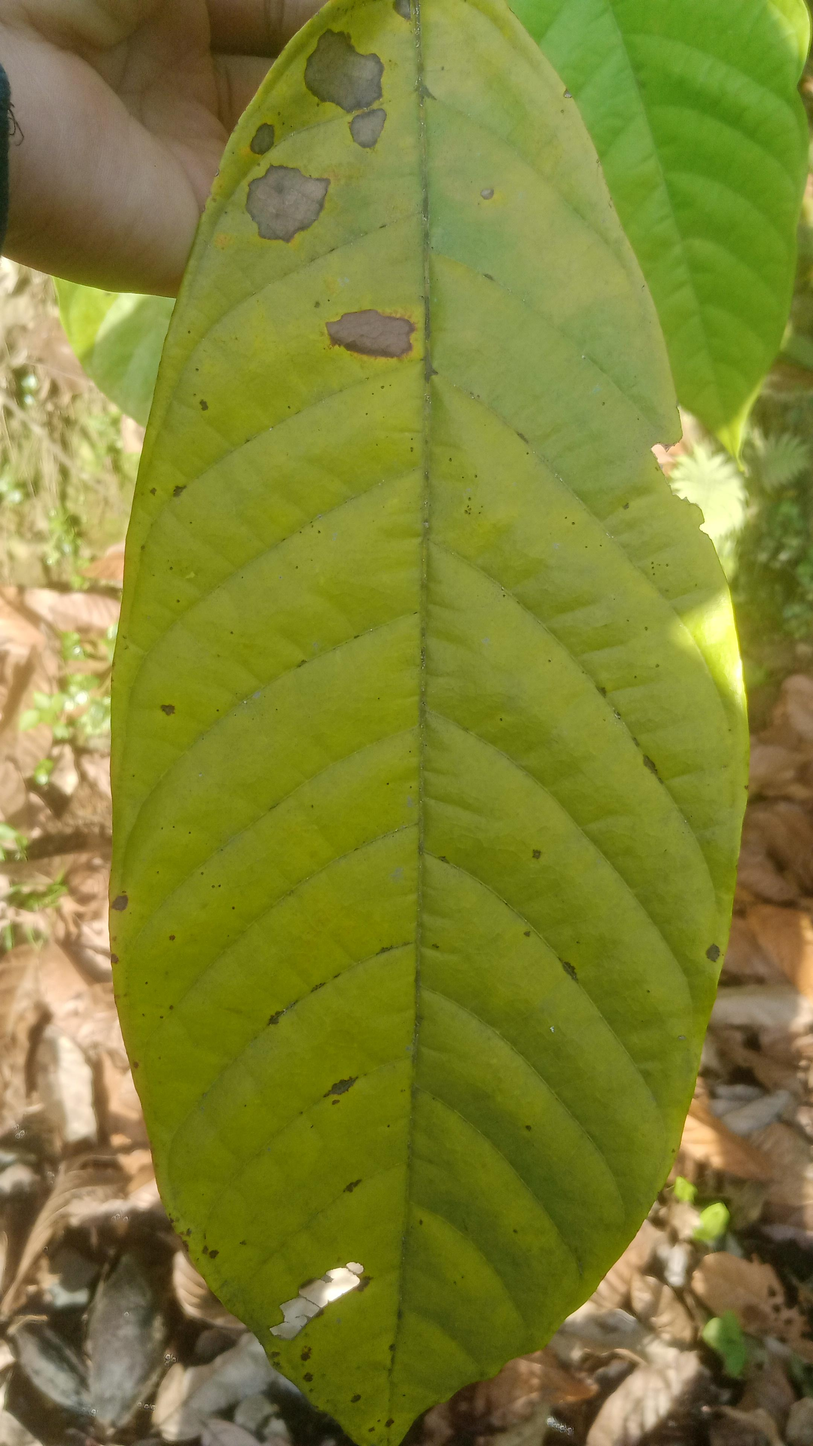deficiencia_potasio: (103, 0, 763, 1446)
